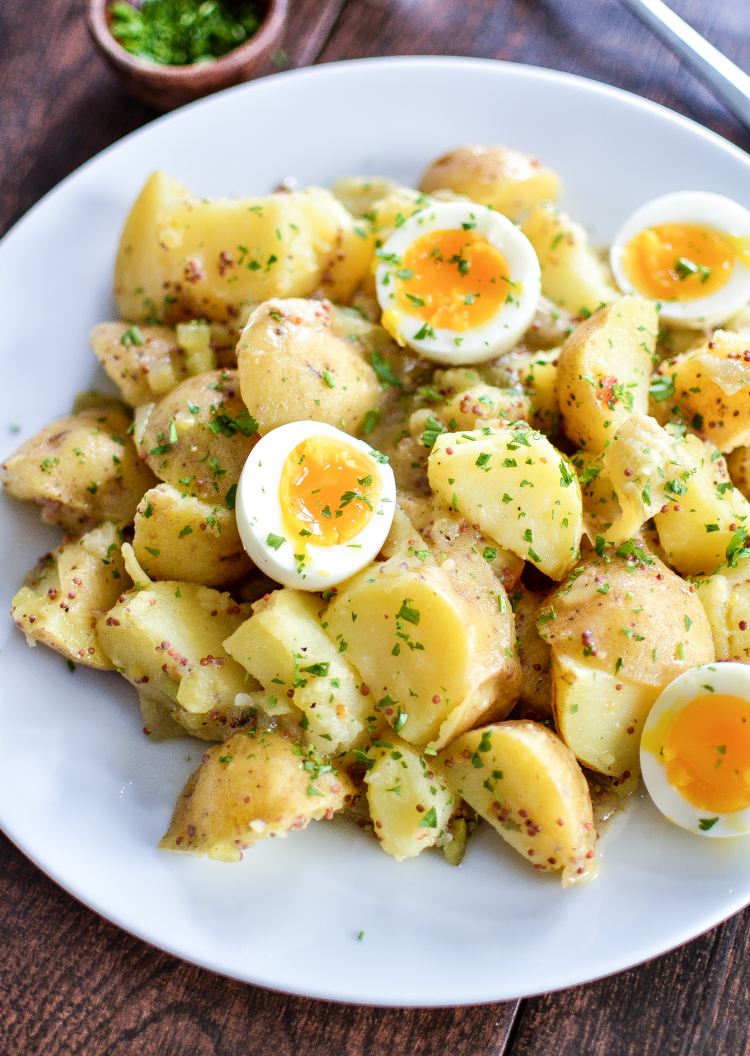boiled potatoes: (263, 646, 572, 865), (448, 408, 695, 656), (129, 239, 231, 722)
fried egg: (380, 205, 535, 371), (235, 433, 391, 578), (648, 663, 750, 832), (629, 184, 750, 320)
